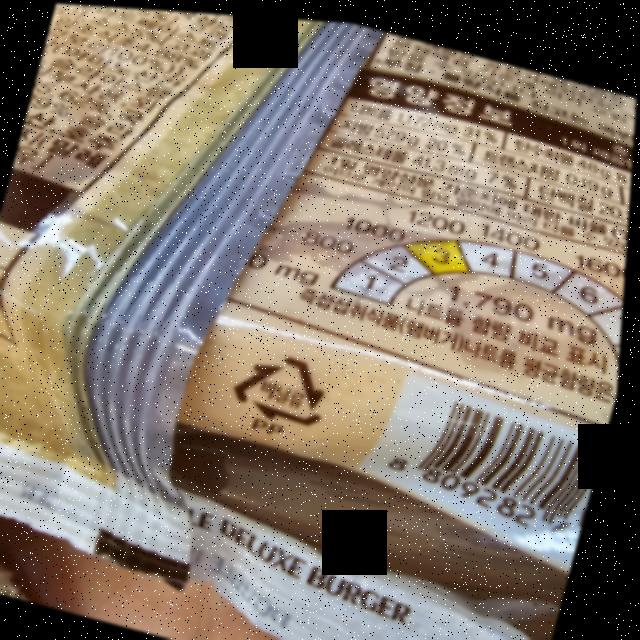Vinyl: (229, 336, 345, 431)
